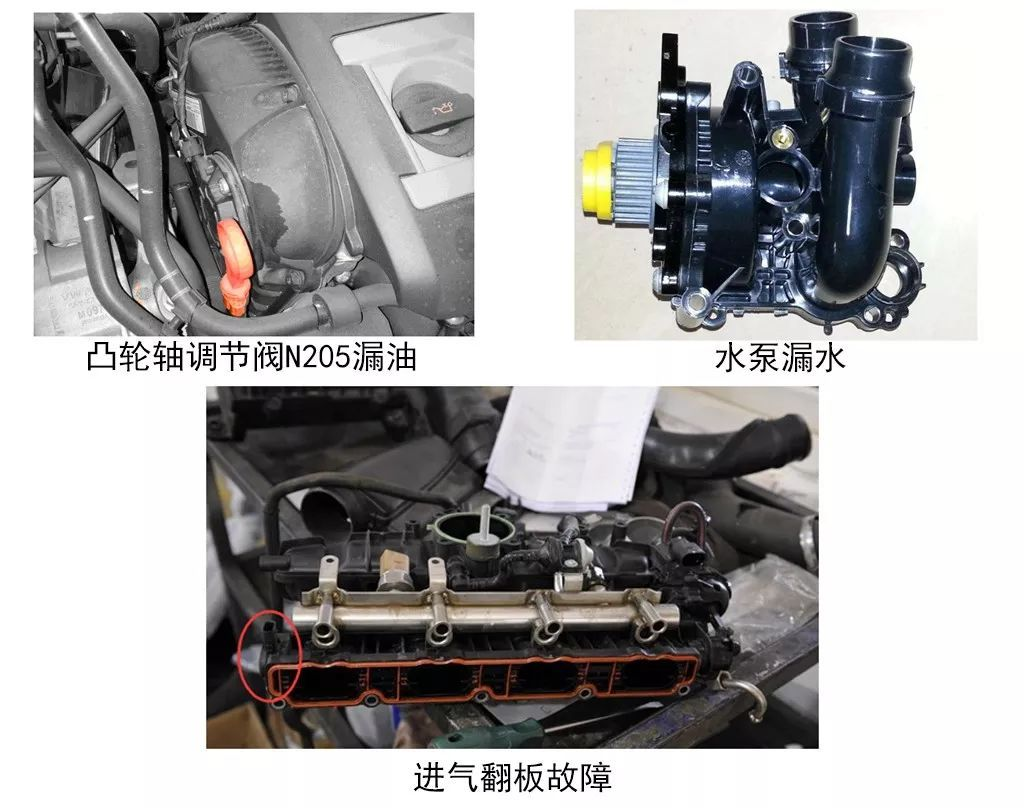oil: (239, 179, 289, 278)
